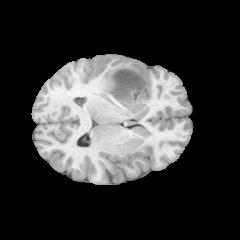glioma: (101, 62, 151, 105)
